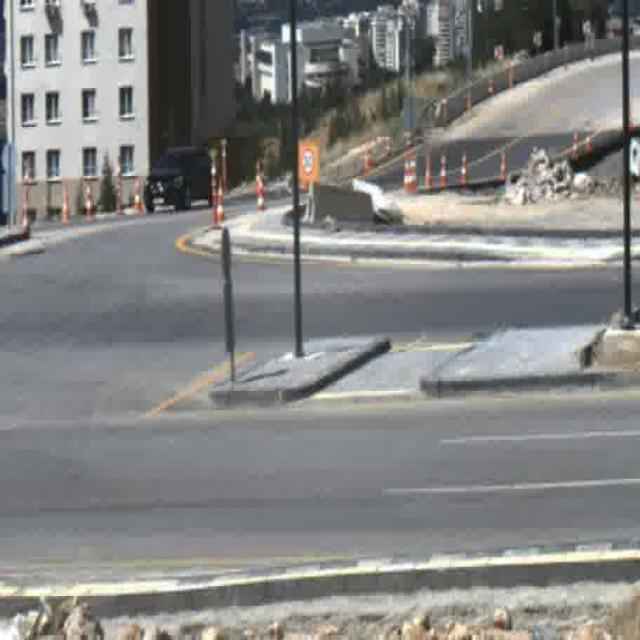Car: (144, 145, 211, 212)
